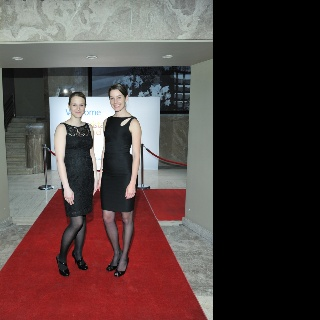without_mask: (69, 96, 85, 118), (109, 89, 125, 111)
